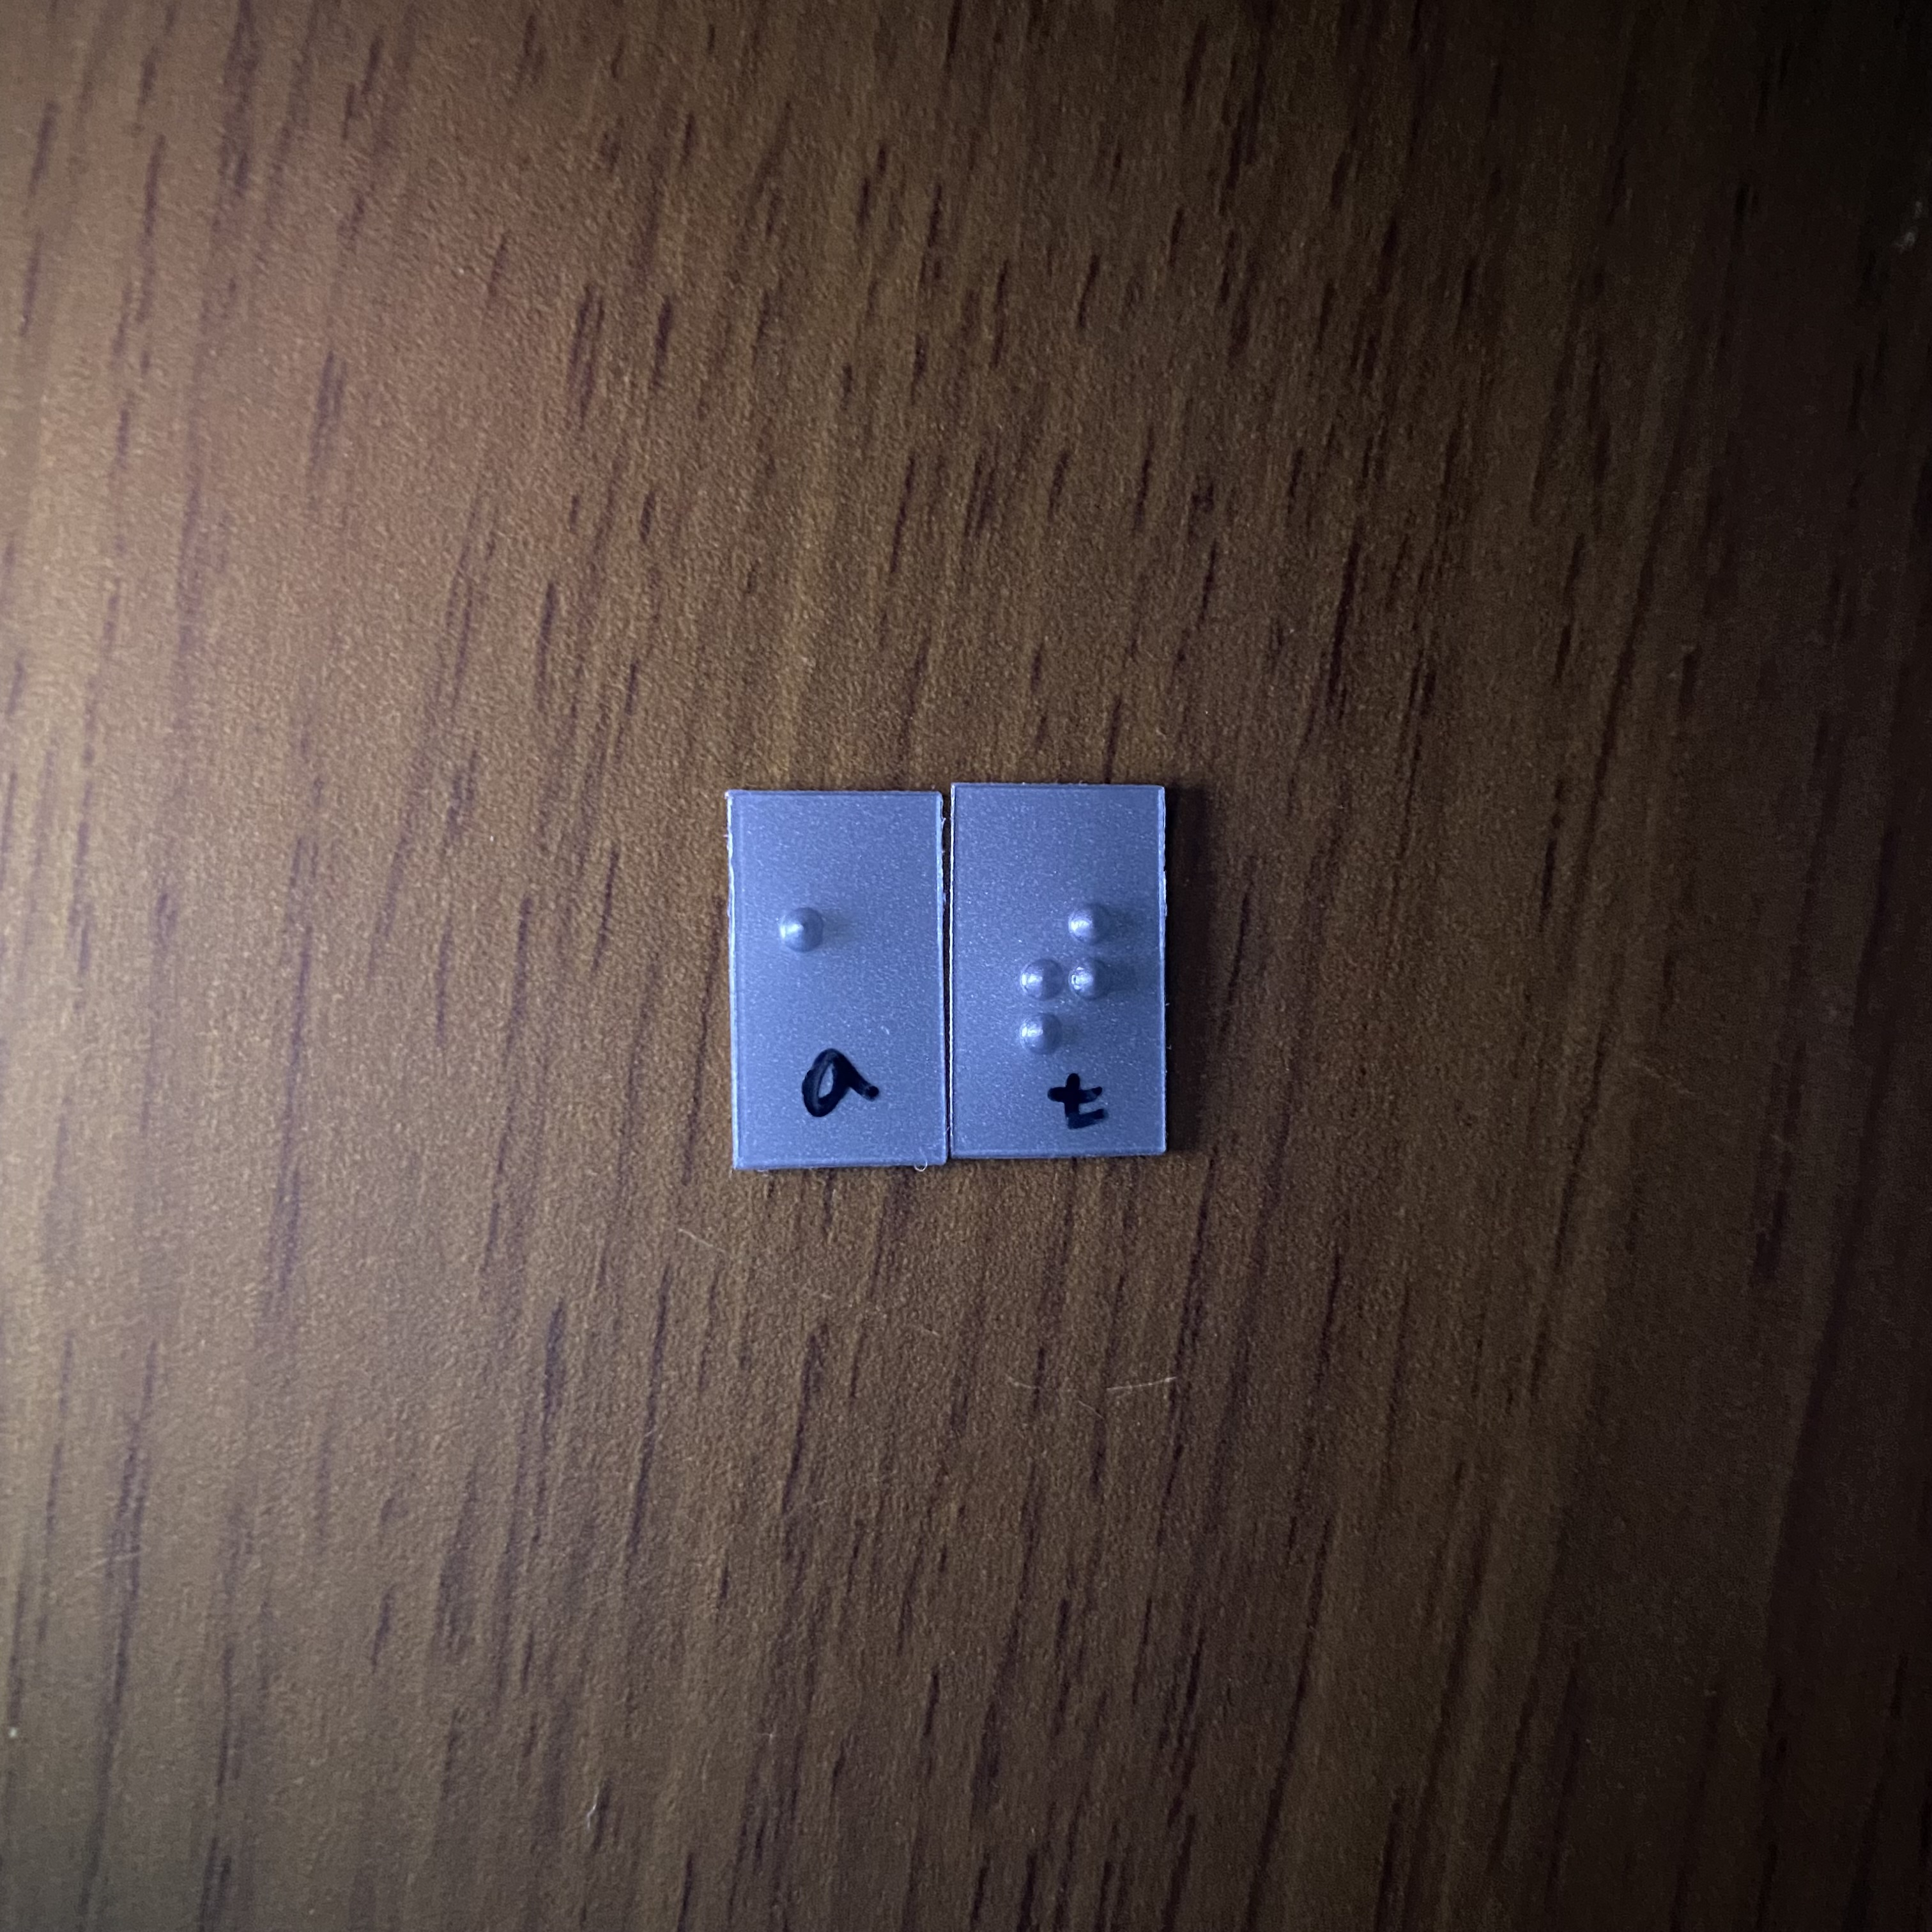a: (772, 885, 895, 1066)
t: (990, 883, 1144, 1077)
